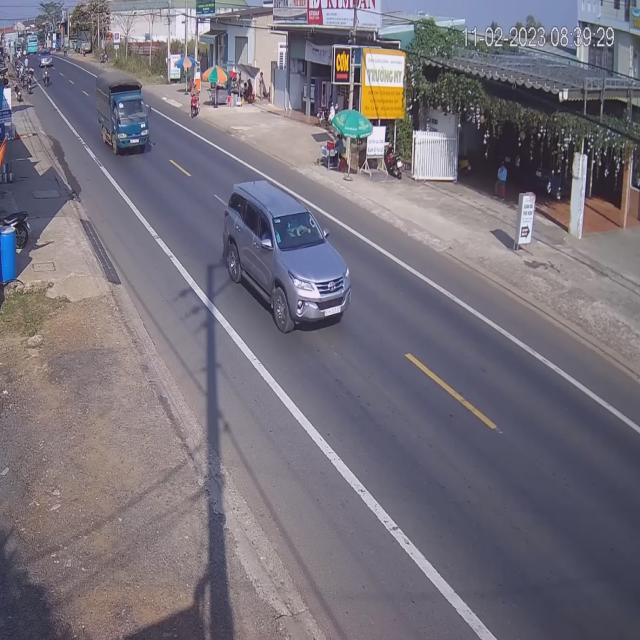car: (222, 182, 349, 336)
motorbike: (190, 91, 199, 119)
truck: (100, 73, 153, 154)
